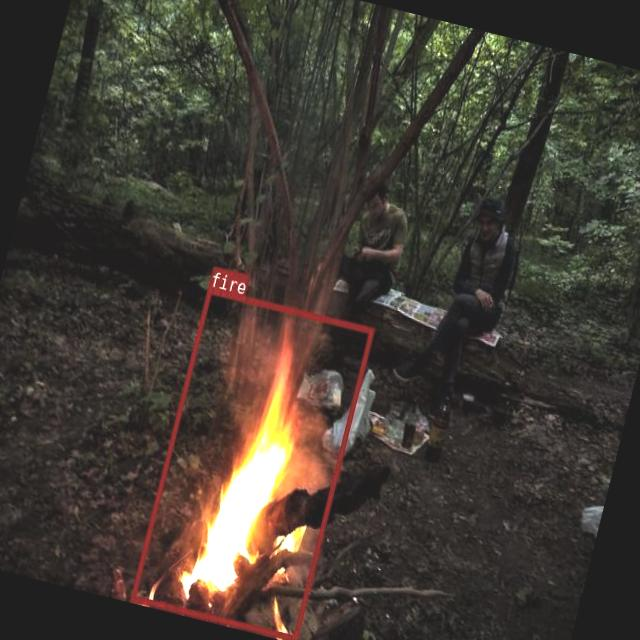fire: (129, 284, 373, 640)
